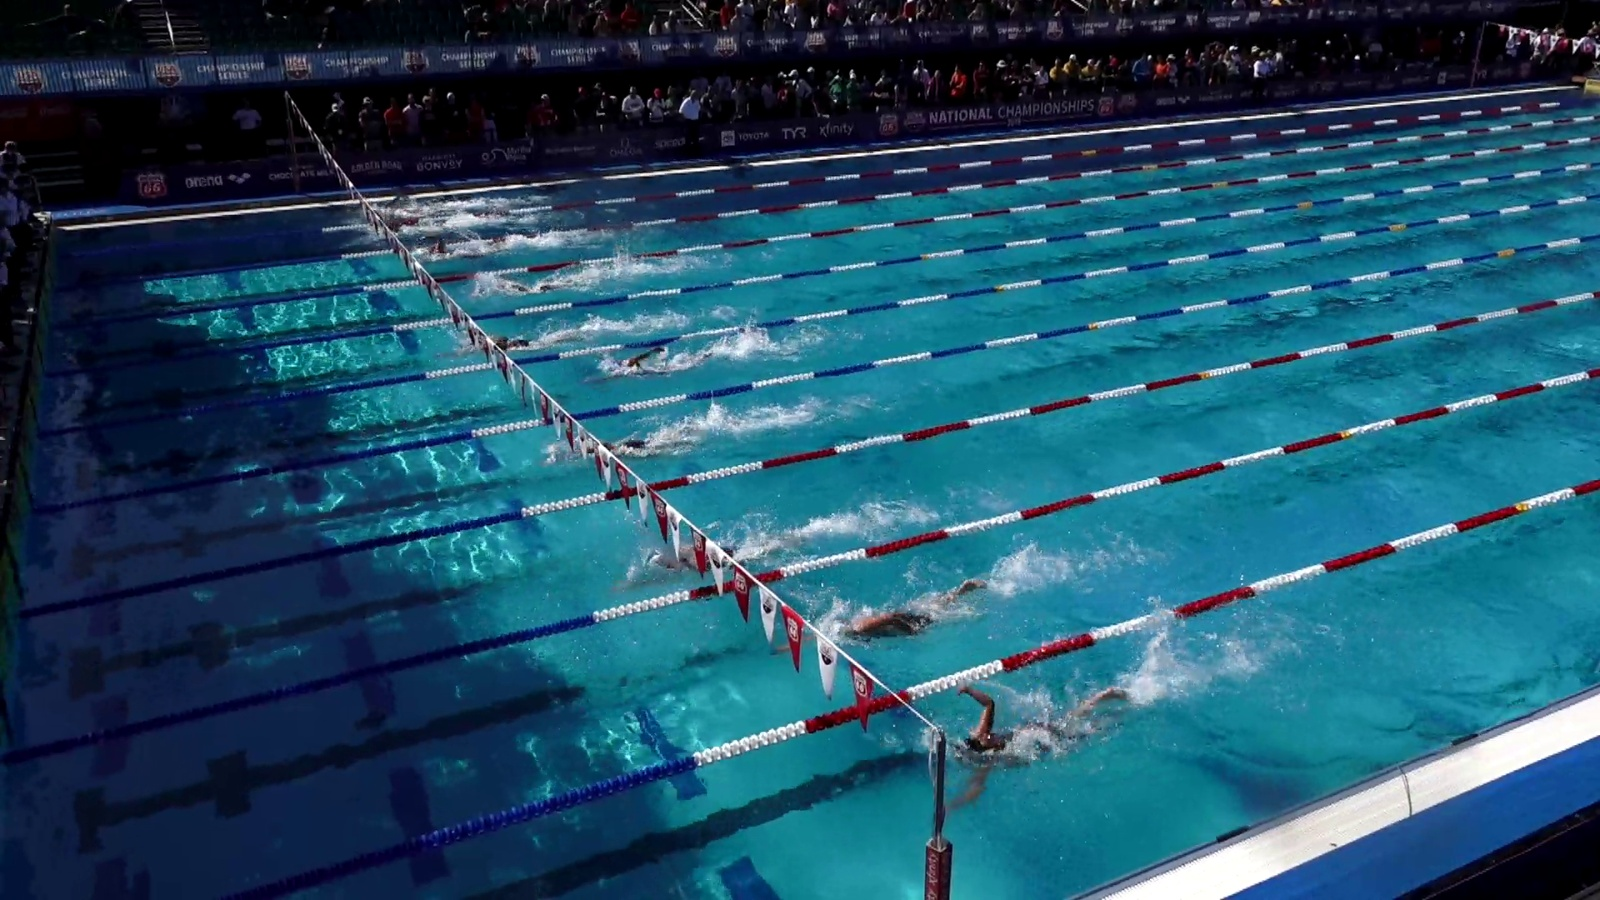swimmerw: (919, 681, 1158, 832), (778, 573, 998, 653), (619, 523, 803, 593), (599, 341, 726, 391), (547, 425, 695, 465), (454, 327, 579, 359), (482, 276, 575, 297), (424, 242, 508, 263), (374, 195, 438, 221), (387, 218, 455, 236)
